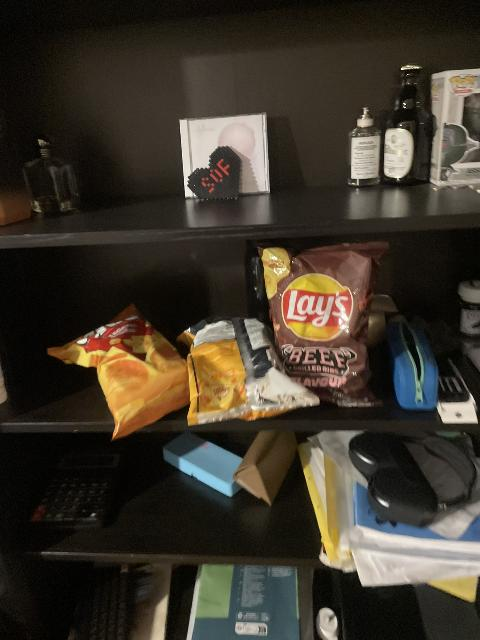Chio Cascaval 125g: (46, 307, 193, 442)
Chio Hula Hoops Cheese 70g: (182, 316, 317, 424)
Lays Beef Grilled Ribs 125g: (258, 243, 376, 392)
